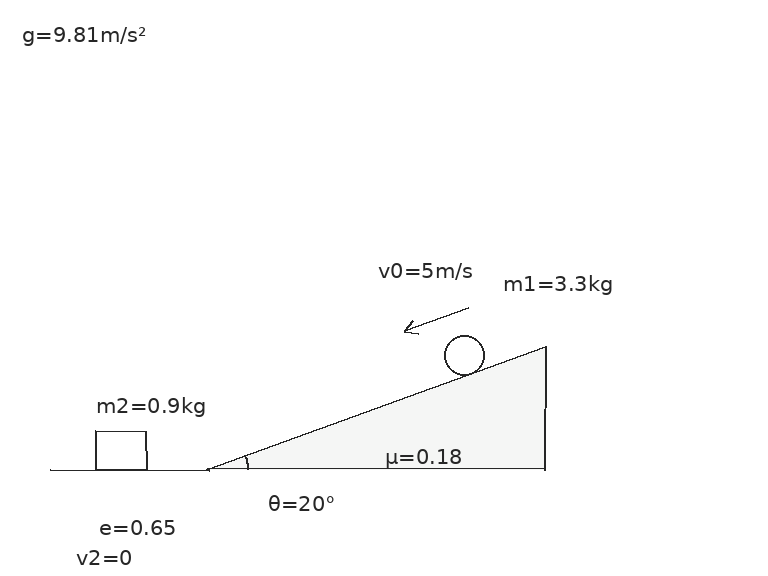ball: (442, 333, 486, 377)
block: (93, 430, 149, 471)
ramp: (206, 344, 547, 471)
